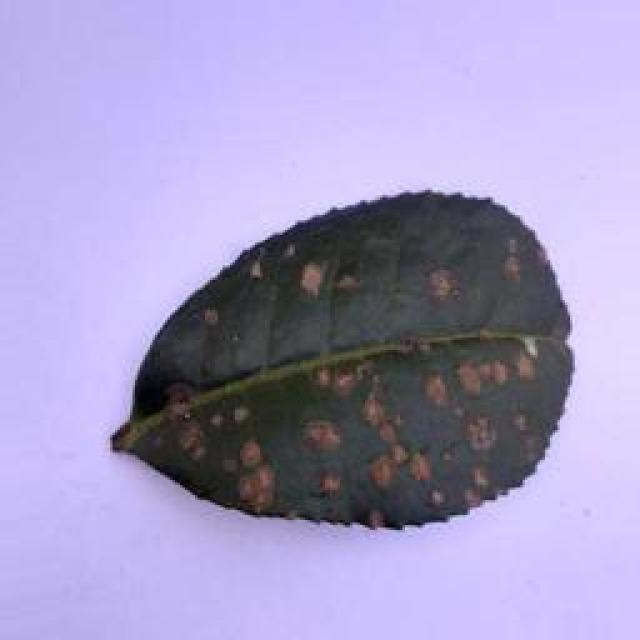Algal Leaf Spot: (99, 182, 603, 562)
